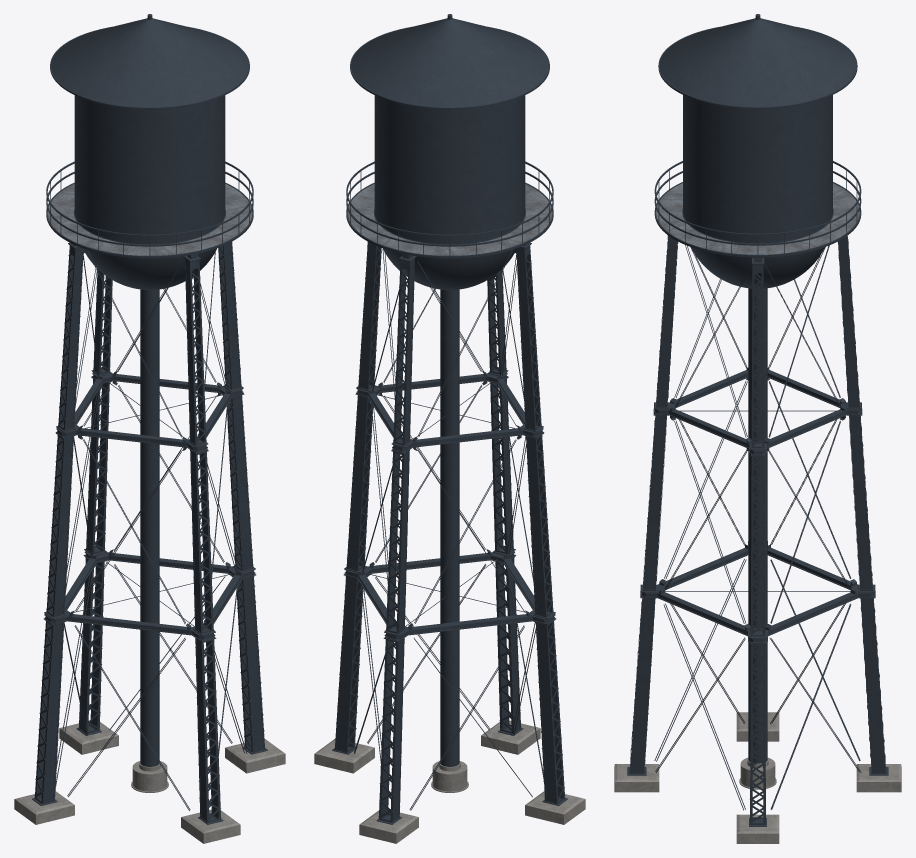
File: WaterTower.fbx
3 views of the same model, side by side, from view 1: azimuth 30°, elevation 25°; view 2: azimuth 150°, elevation 25°; view 3: azimuth 270°, elevation 25° (orthographic).
Visible parts, largest first — view 1: WaterTower_LOD_0; view 2: WaterTower_LOD_0; view 3: WaterTower_LOD_0.
Boxes of the visible parts, x1,y1,x2,y2 form: WaterTower_LOD_0: (14, 14, 285, 843); WaterTower_LOD_0: (314, 14, 585, 843); WaterTower_LOD_0: (614, 14, 901, 843).
Size of what is drawn, in the model's own units: 1475 by 4355 by 1475.
